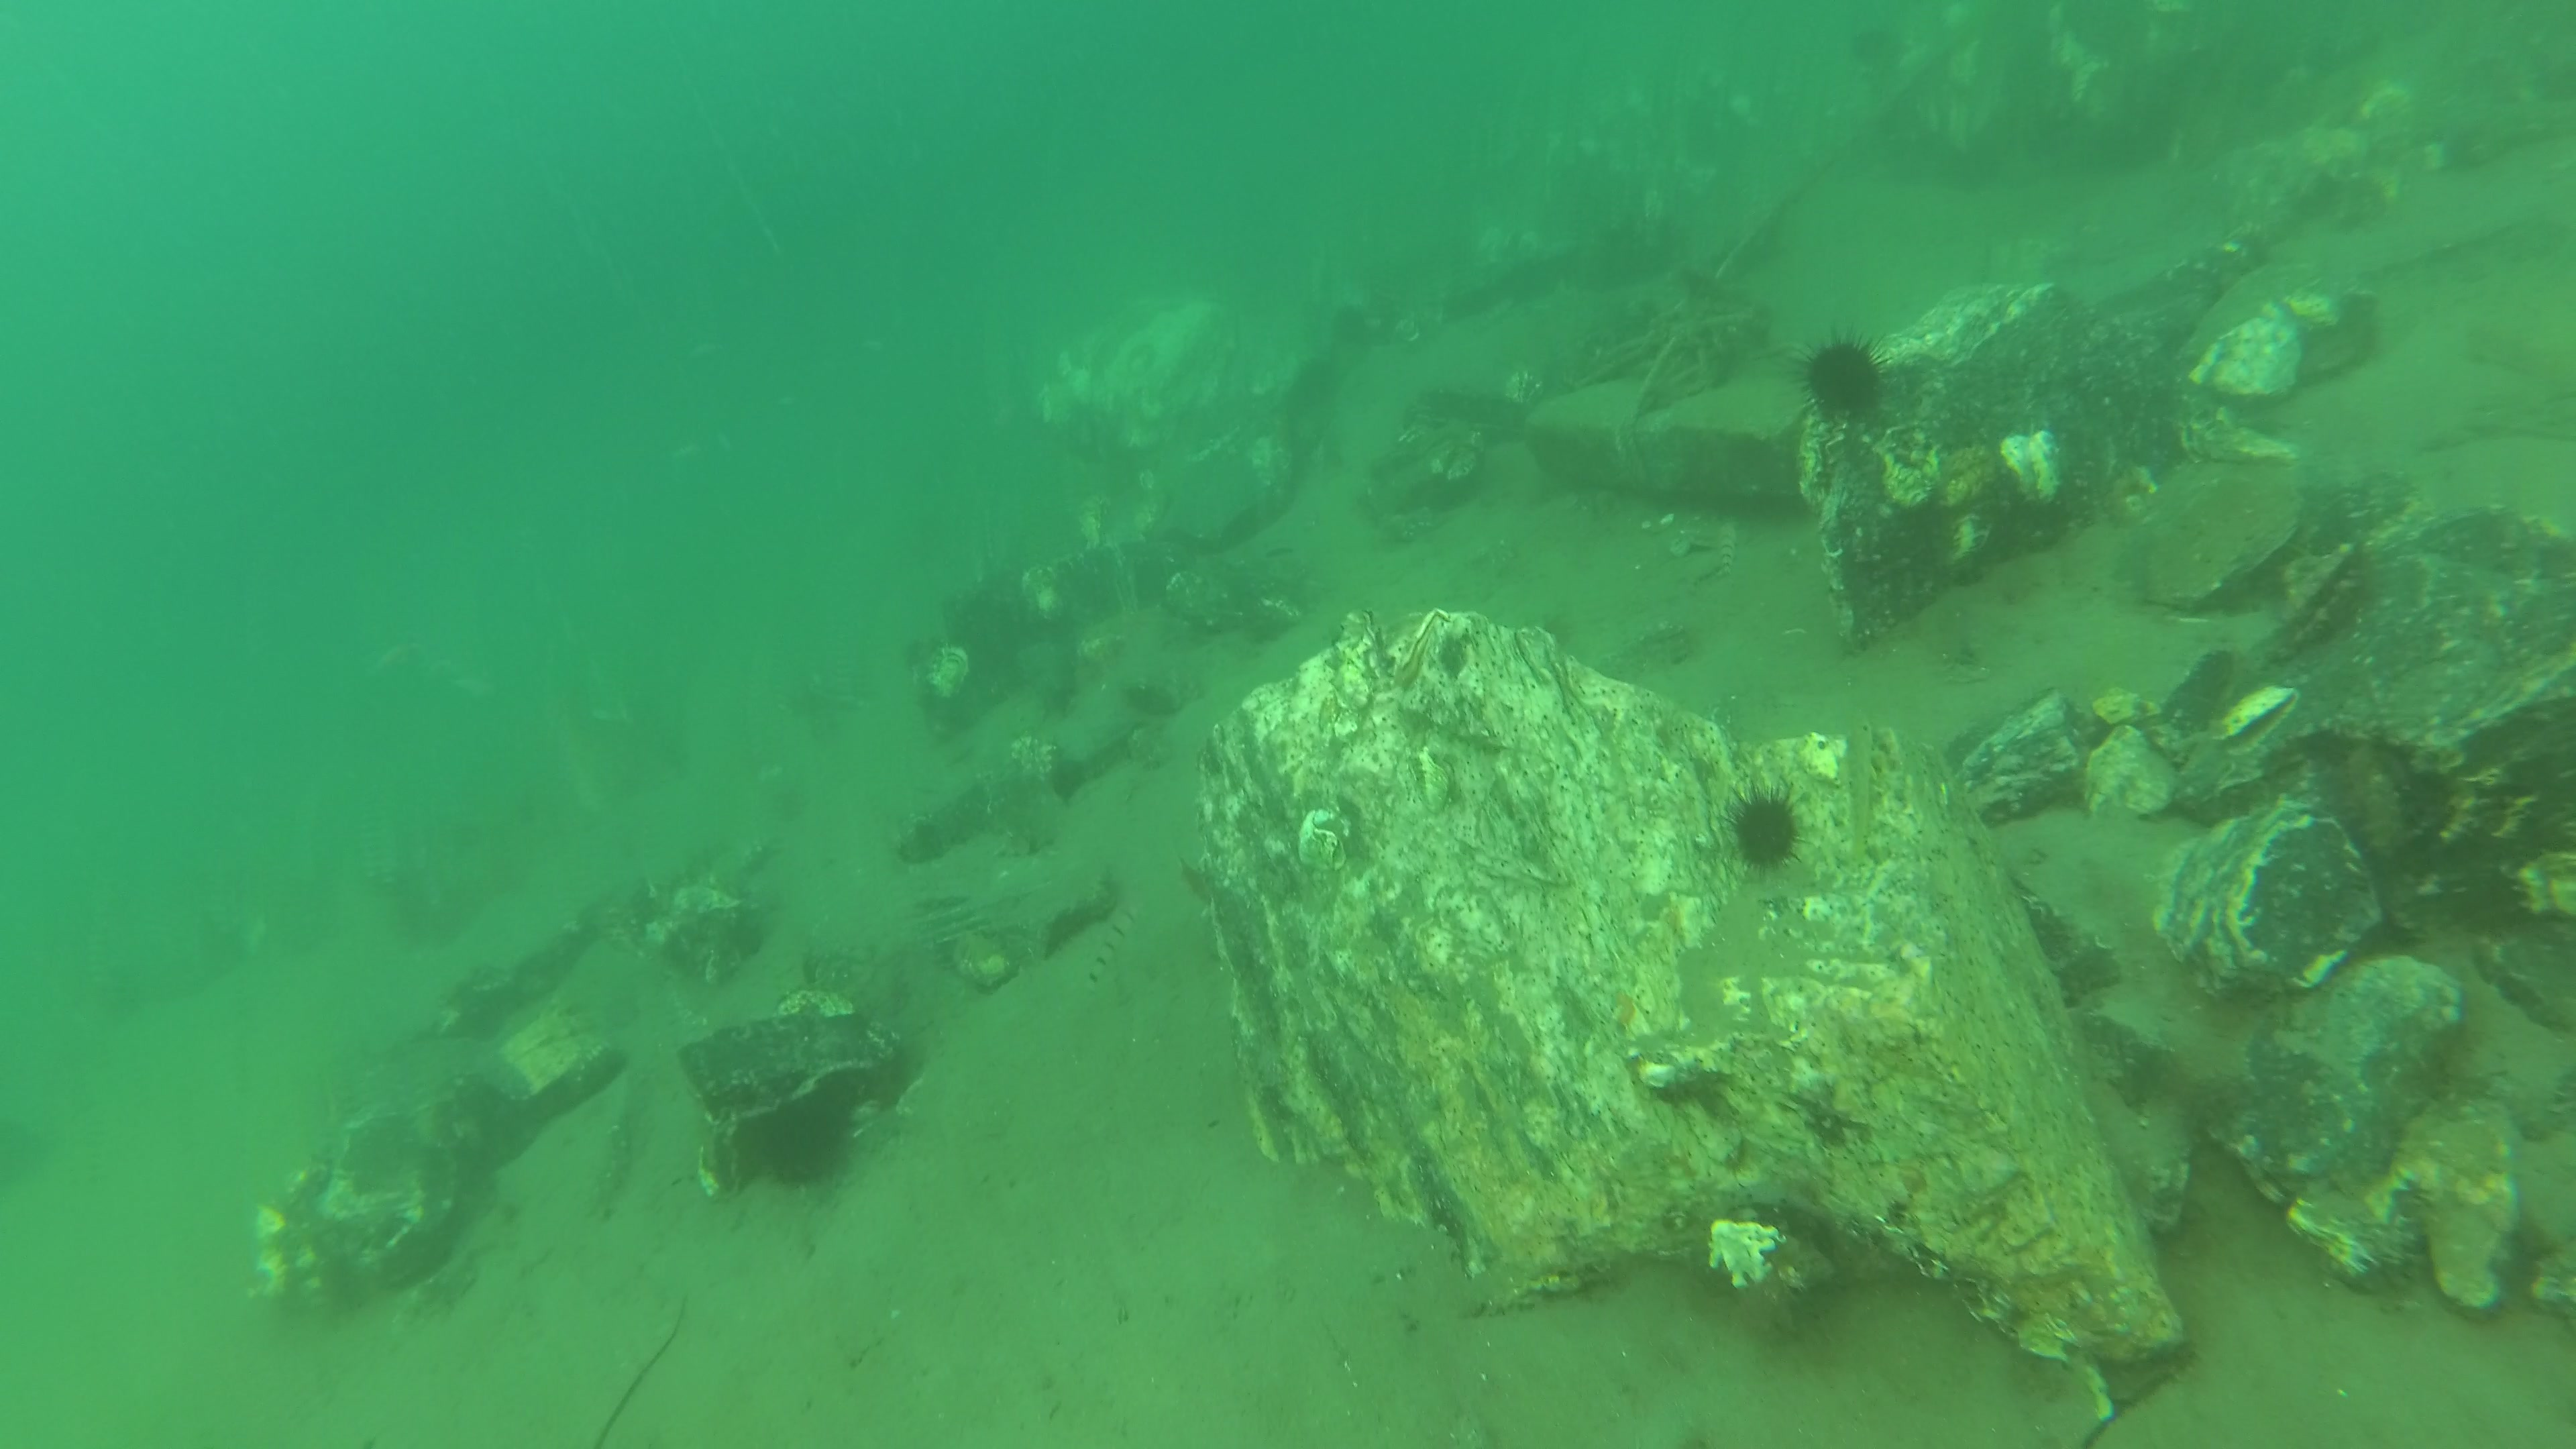echinus: (1790, 331, 1897, 430), (1721, 784, 1813, 878), (761, 1099, 851, 1187)
